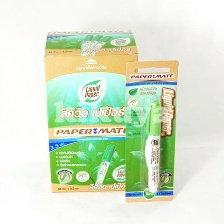book: (40, 25, 142, 196), (122, 58, 180, 205)
correction_fluid: (142, 98, 164, 195)
